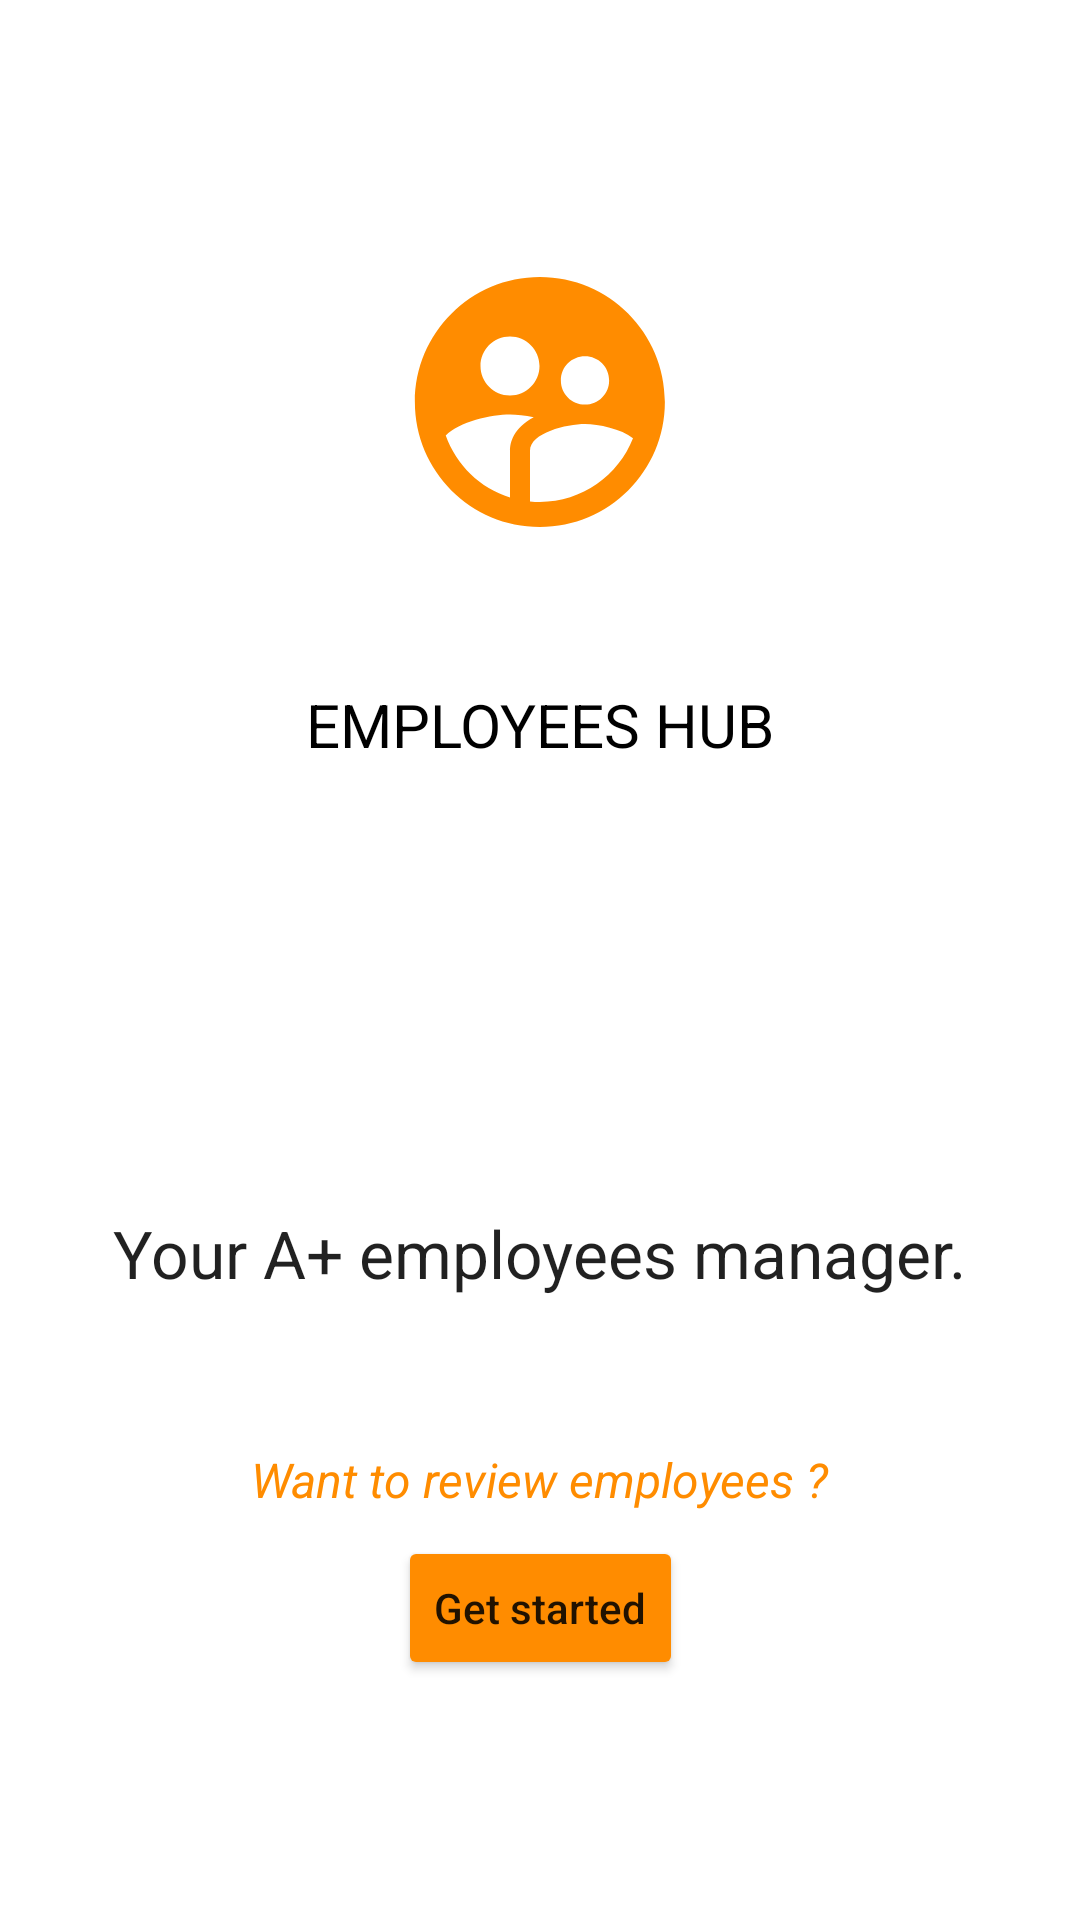

Named icons in this screenshot (1080px×1920px) and their centers, point (x, y):
emp supervised: point (539, 402)
